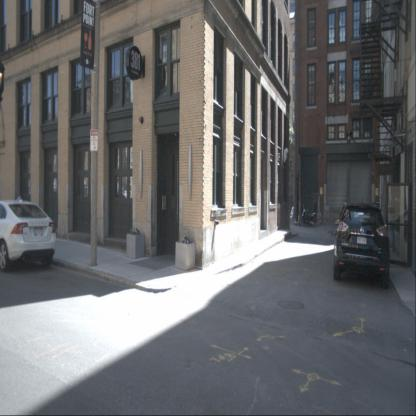cone: (316, 213, 320, 224), (297, 214, 300, 223)
